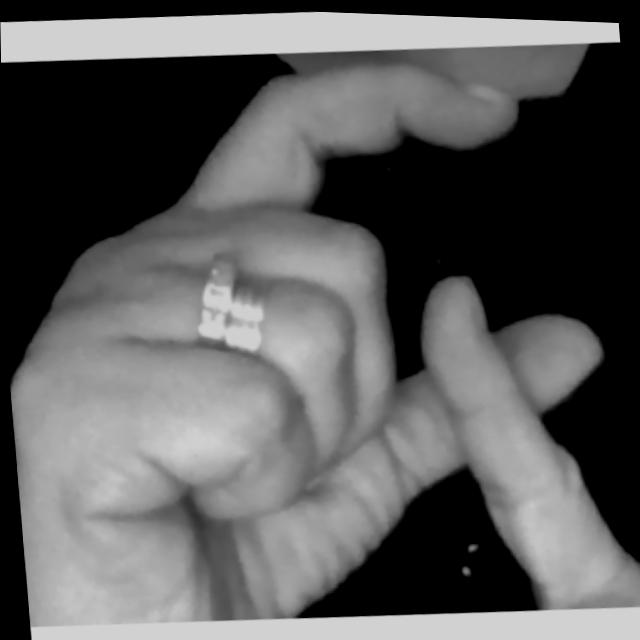C_: (0, 20, 640, 640)
